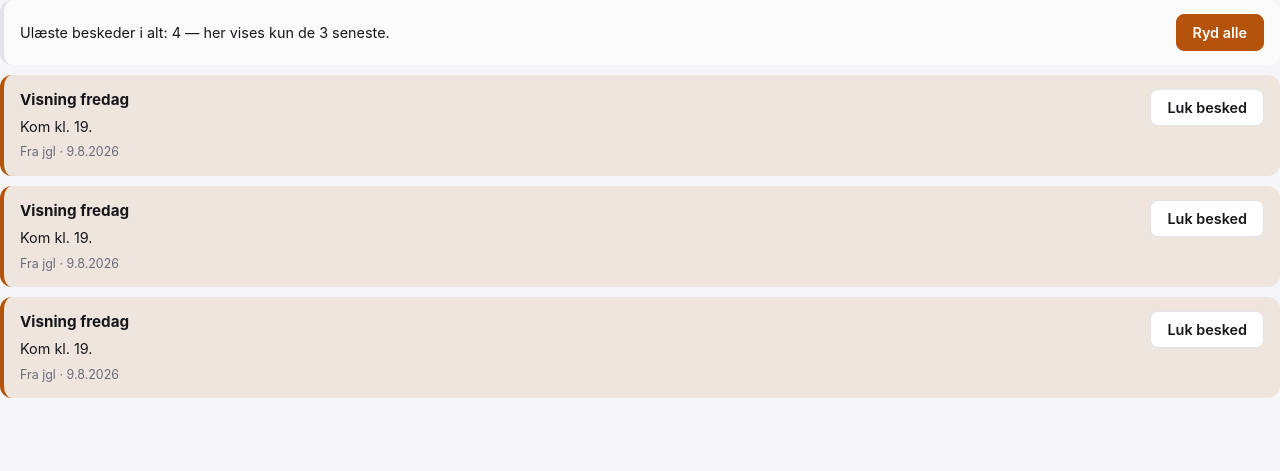
MessageBanner › beholder banneret hvis 'Ryd alle' fejler
This screenshot has width=1280, height=471.
Expected: the text "Ulæste beskeder i alt: 4 — her vises kun de 3 seneste." is shown, [20, 24, 390, 41]
Click the button "Ryd alle" at (1220, 32), box [1176, 14, 1264, 51]
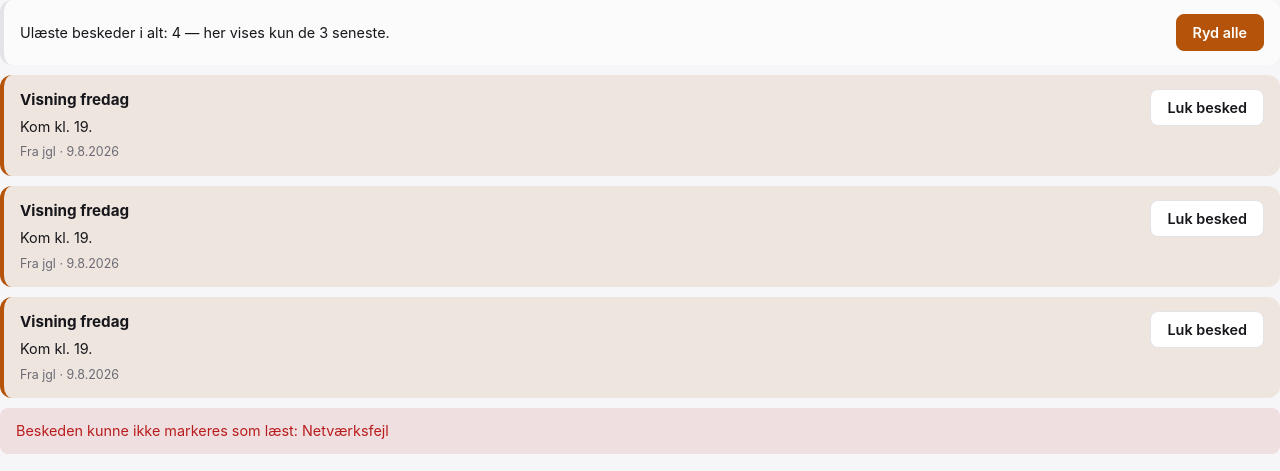
Expected: the text "Ulæste beskeder i alt: 4 — her vises kun de 3 seneste." is shown, [20, 24, 390, 41]
Result: the text "Beskeden kunne ikke markeres som læst: Netværksfejl" is shown at [0, 408, 1279, 454]
